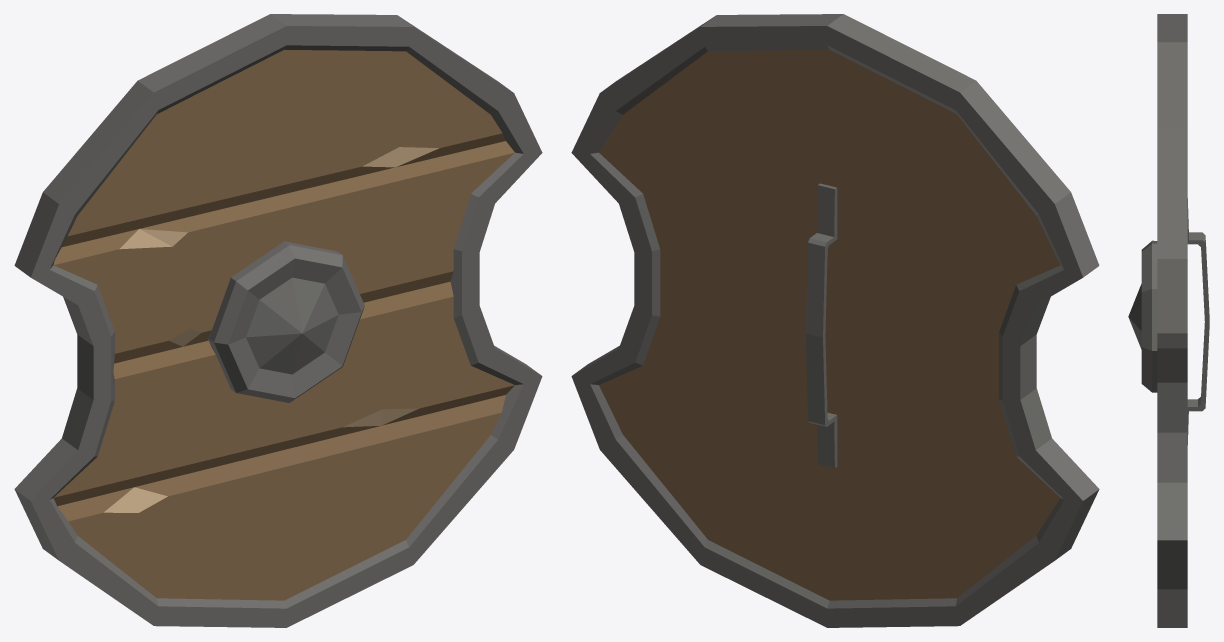
Rendered from SM_pwe_medieval_shield_06.fbx.
3 views of the same model, side by side, from view 1: azimuth 30°, elevation 25°; view 2: azimuth 150°, elevation 25°; view 3: azimuth 270°, elevation 25° (orthographic). The views are drawn at different scales.
Parts seen in each view (by area): view 1: SM_pwe_medieval_shield_06; view 2: SM_pwe_medieval_shield_06; view 3: SM_pwe_medieval_shield_06.
Part boxes in pixels (bbox=[...]): SM_pwe_medieval_shield_06: bbox=[14, 14, 542, 627]; SM_pwe_medieval_shield_06: bbox=[571, 14, 1099, 627]; SM_pwe_medieval_shield_06: bbox=[1128, 14, 1209, 627].
Size of the model in its own units: 80.37 by 90.35 by 11.94.
